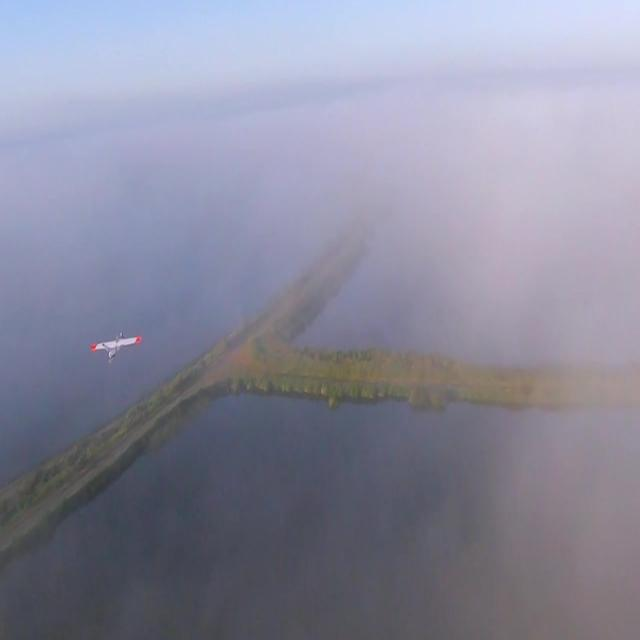iha: (26, 330, 77, 365)
